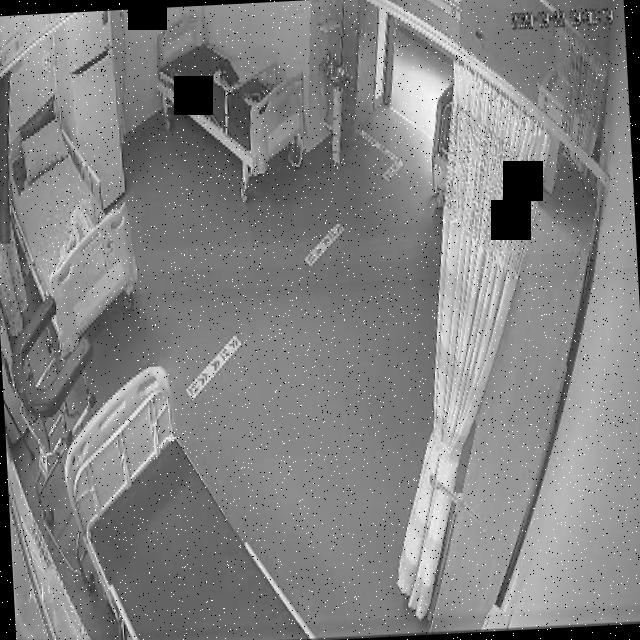bed: (59, 359, 314, 640), (2, 106, 144, 342), (150, 6, 310, 183)
walker: (12, 288, 106, 534)
